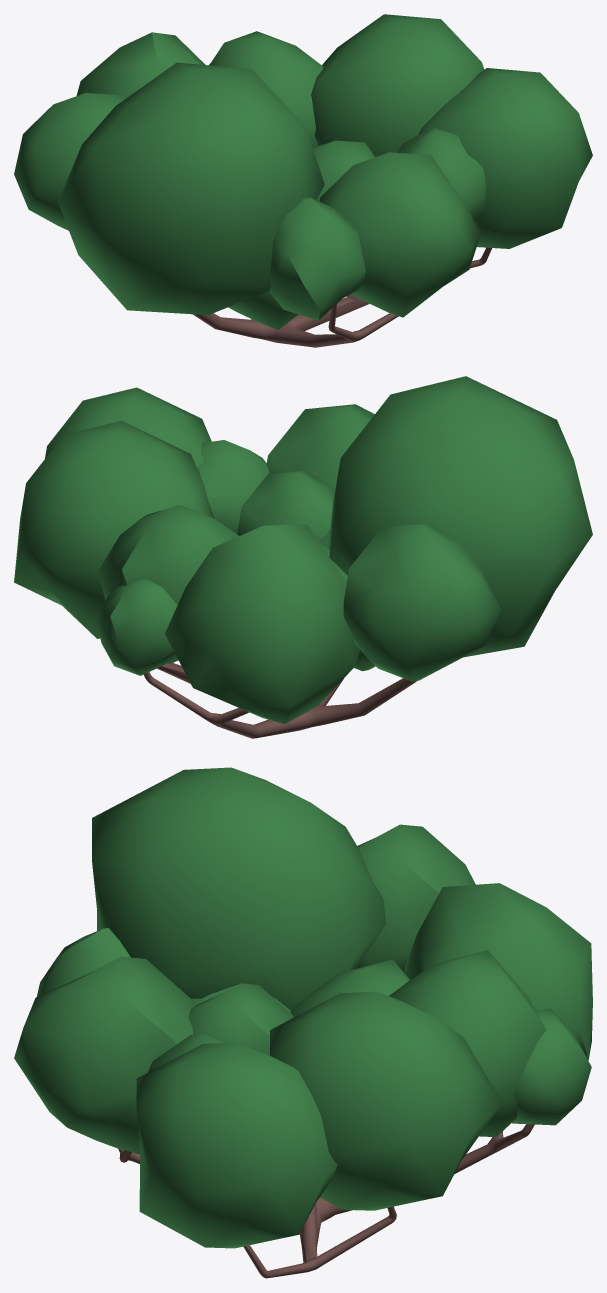
The model's file is Bush01.fbx.
3 views of the same model, one above another, from view 1: azimuth 30°, elevation 25°; view 2: azimuth 150°, elevation 25°; view 3: azimuth 270°, elevation 25° (orthographic). The views are drawn at different scales.
Visible parts, largest first — view 1: Icosphere.003, Plane.007; view 2: Icosphere.003, Plane.007; view 3: Icosphere.003, Plane.007.
Boxes of the visible parts, x1=… form: Icosphere.003: x1=14, y1=14, x2=592, y2=329; Plane.007: x1=193, y1=247, x2=491, y2=347; Icosphere.003: x1=14, y1=376, x2=592, y2=724; Plane.007: x1=143, y1=663, x2=416, y2=738; Icosphere.003: x1=14, y1=767, x2=592, y2=1248; Plane.007: x1=118, y1=1124, x2=534, y2=1278.
Size of the model in its own units: 227 by 139 by 190.
